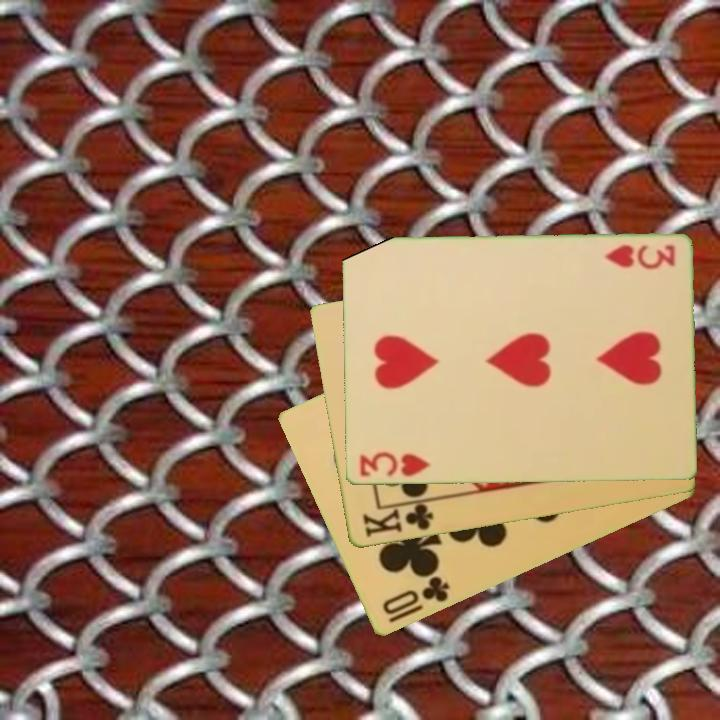10c: (378, 573, 452, 618)
3h: (356, 449, 433, 480), (600, 242, 678, 271)
Kc: (359, 497, 437, 541)
